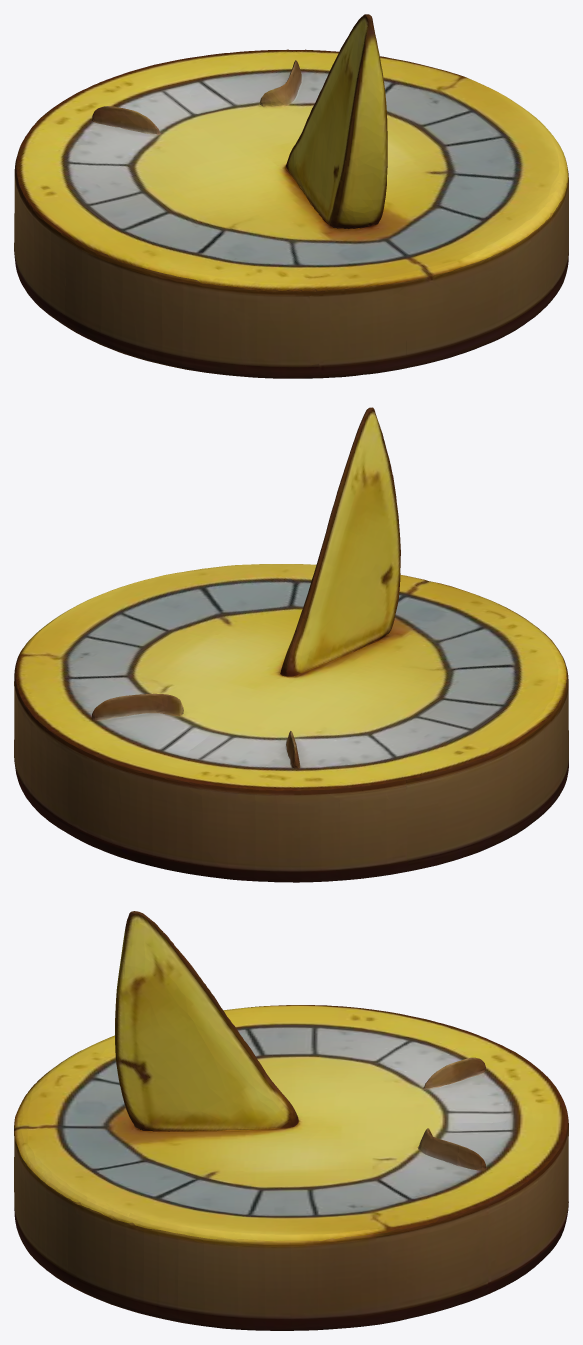
The model's file is sundial.glb.
3 renders of one model, top to bottom at view 1: azimuth 30°, elevation 25°; view 2: azimuth 150°, elevation 25°; view 3: azimuth 270°, elevation 25°, orthographic.
Parts seen in each view (by area): view 1: world.001; view 2: world.001; view 3: world.001.
Part boxes in pixels (x1,y1,x2,y2): world.001: (14,14,568,378); world.001: (14,407,568,882); world.001: (14,911,568,1330).
Bounding box in the file's own units: 0.9993 × 0.6064 × 0.9976.
Materials: 1 (1 with a texture image).
